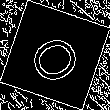O_NE: (23, 24, 87, 86)
